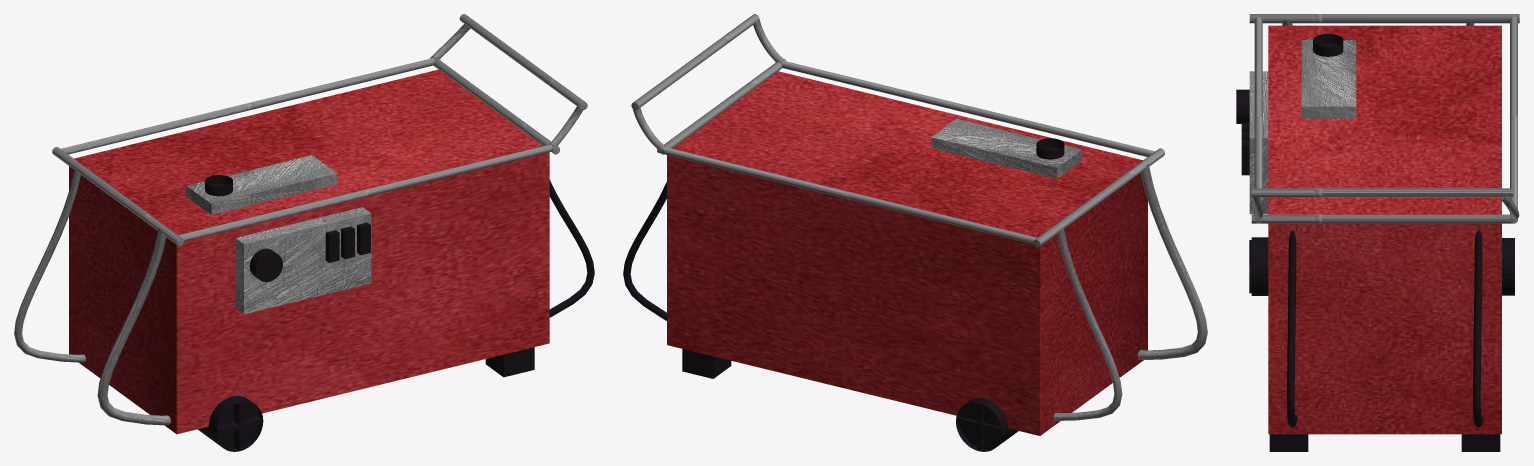
The model's file is Generator_Textured.fbx.
The picture shows the model from 3 angles, left to right: view 1: azimuth 30°, elevation 25°; view 2: azimuth 150°, elevation 25°; view 3: azimuth 270°, elevation 25°; orthographic projection. The views are drawn at different scales.
Parts seen in each view (by area): view 1: Cube, Cube.007, Cube.011, Cylinder.002, Cylinder.003, BezierCurve.002, BezierCurve.003, Cylinder, Cylinder.005, Cylinder.004, Cylinder.008, BezierCurve.001 (+2 smaller); view 2: Cube, Cube.011, Cylinder.003, Cylinder.002, BezierCurve.002, BezierCurve.003, Cylinder.001, Cylinder.005, Cylinder.004, Cylinder.008, BezierCurve, Cube.005; view 3: Cube, Cube.011, Cylinder.004, Cylinder.005, Cylinder.008, Cube.007, BezierCurve, BezierCurve.001, Cylinder.002, Cylinder.003, Cylinder, Cylinder.001 (+5 smaller).
Boxes of the visible parts, x1,y1,x2,y2 form: Cube: [69, 69, 549, 434]; Cube.007: [235, 207, 371, 314]; Cube.011: [186, 155, 337, 214]; Cylinder.002: [178, 144, 558, 241]; Cylinder.003: [61, 58, 440, 154]; BezierCurve.002: [97, 228, 170, 425]; BezierCurve.003: [14, 169, 85, 362]; Cylinder: [198, 396, 263, 451]; Cylinder.005: [52, 147, 184, 246]; Cylinder.004: [459, 14, 587, 109]; Cylinder.008: [433, 59, 559, 154]; BezierCurve.001: [549, 180, 594, 317]; Cube: [667, 71, 1147, 435]; Cube.011: [931, 119, 1082, 178]; Cylinder.003: [657, 146, 1036, 244]; Cylinder.002: [775, 60, 1154, 156]; BezierCurve.002: [1137, 163, 1207, 359]; BezierCurve.003: [1053, 228, 1122, 420]; Cylinder.001: [956, 398, 1018, 451]; Cylinder.005: [1033, 148, 1164, 247]; Cylinder.004: [631, 14, 759, 109]; Cylinder.008: [661, 59, 786, 154]; BezierCurve: [623, 182, 666, 320]; Cube.005: [682, 349, 731, 378]; Cube: [1268, 25, 1501, 434]; Cube.011: [1301, 40, 1356, 118]; Cylinder.004: [1251, 188, 1513, 197]; Cylinder.005: [1249, 14, 1519, 23]; Cylinder.008: [1251, 214, 1513, 223]; Cube.007: [1249, 71, 1268, 214]; BezierCurve: [1473, 230, 1483, 427]; BezierCurve.001: [1287, 230, 1297, 427]; Cylinder.002: [1254, 16, 1262, 223]; Cylinder.003: [1510, 16, 1517, 223]; Cylinder: [1251, 237, 1268, 295]; Cylinder.001: [1502, 238, 1514, 295].
Size of the model in its own units: 486 by 247 by 221.
